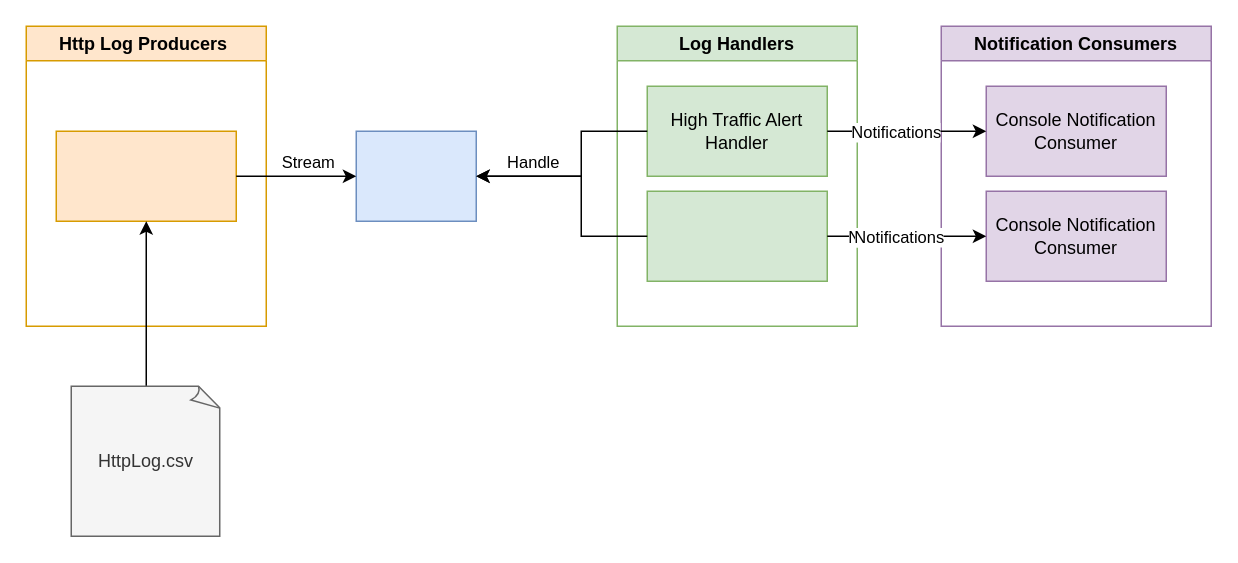
Some shapes in this 1238 by 563 pixel diagram are drawn without their labels. The shapes that lost their labels are listed below. From the top down, each one's centre as x and y in pixels, then its label:
the point at 145,175: Local File Http Log Producer
the point at 415,175: Dispatcher
the point at 736,235: Traffic Stats Handler
